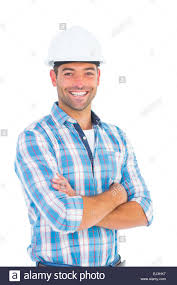Person_wearing_helmet: (43, 16, 112, 83)
